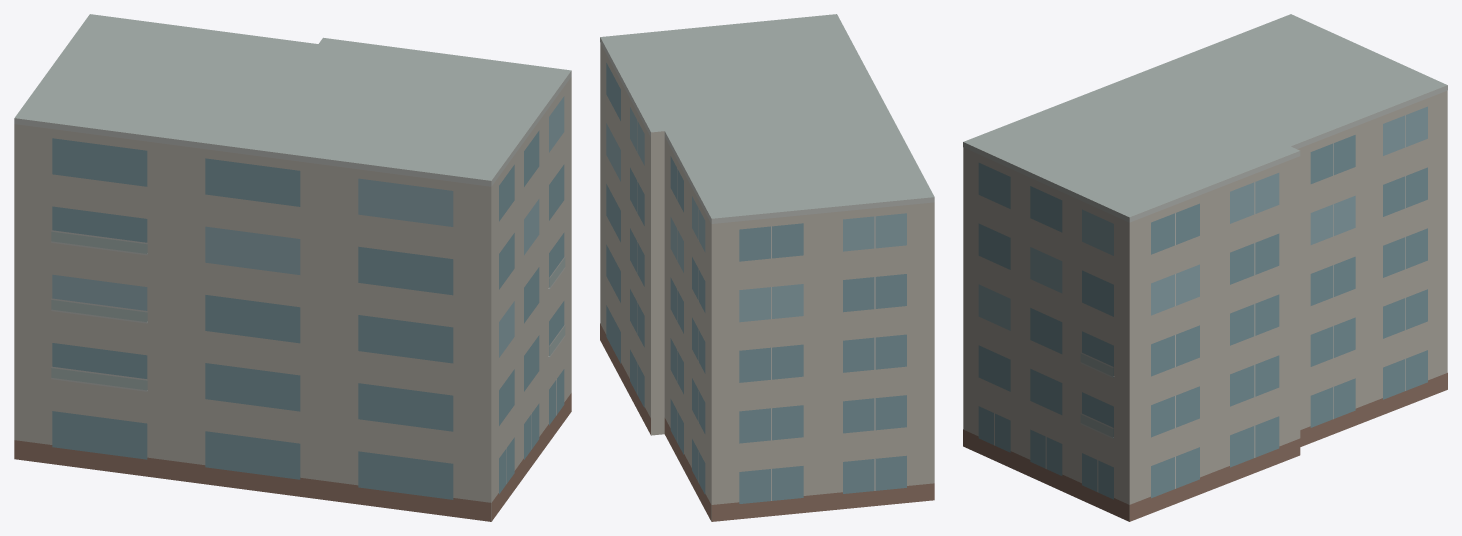
The model's file is survey-upis-32948235.glb.
3 views of the same model, side by side, from view 1: azimuth 30°, elevation 25°; view 2: azimuth 150°, elevation 25°; view 3: azimuth 270°, elevation 25° (orthographic). The views are drawn at different scales.
Visible parts, largest first — view 1: survey-upis-32948235.tmp; view 2: survey-upis-32948235.tmp; view 3: survey-upis-32948235.tmp.
Boxes of the visible parts, x1,y1,x2,y2 form: survey-upis-32948235.tmp: [14, 14, 571, 521]; survey-upis-32948235.tmp: [600, 14, 934, 521]; survey-upis-32948235.tmp: [963, 14, 1447, 521].
Size of the model in its own units: 20.06 by 14 by 20.2.
